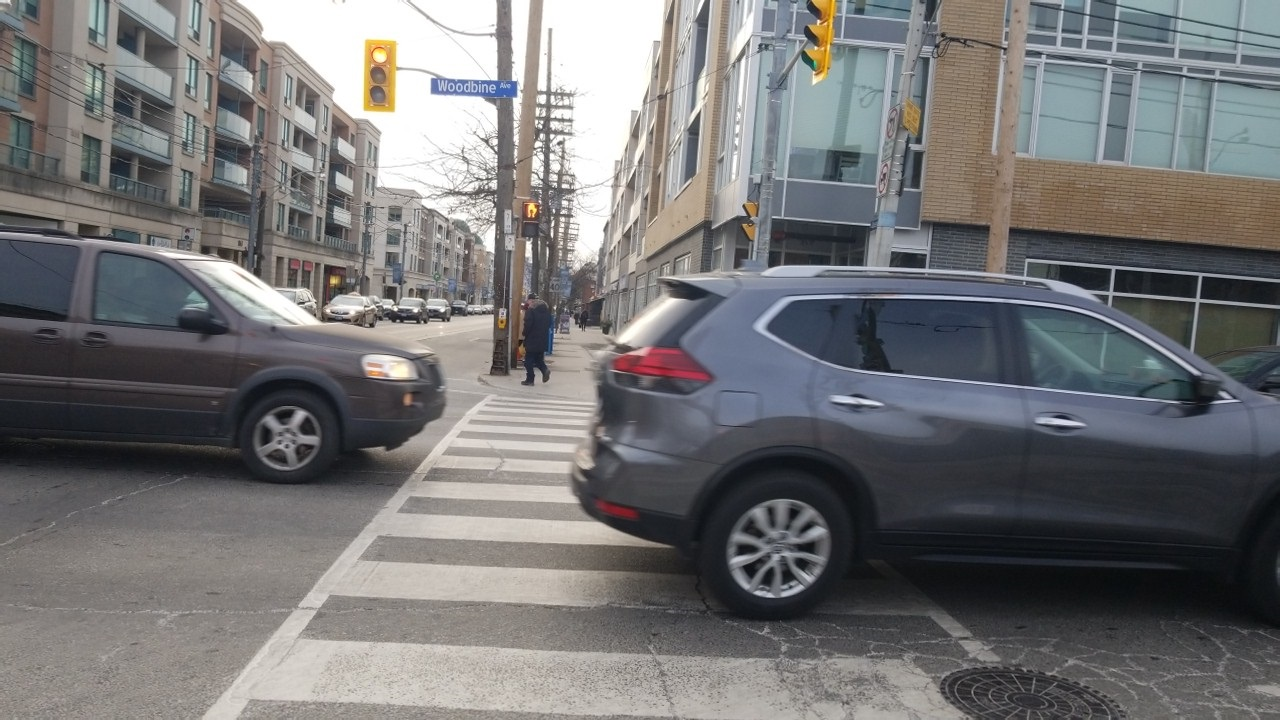light: (519, 199, 540, 239)
